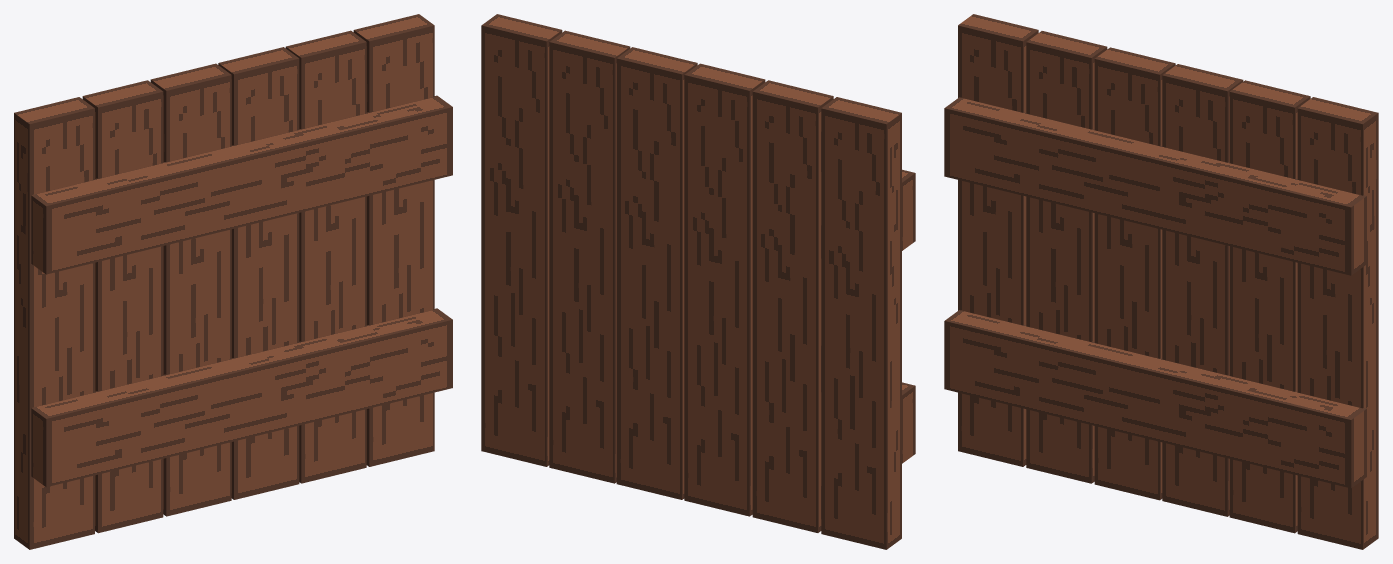
Rendered from Fence.fbx.
The picture shows the model from 3 angles, left to right: view 1: azimuth 30°, elevation 25°; view 2: azimuth 150°, elevation 25°; view 3: azimuth 330°, elevation 25°; orthographic projection.
Parts seen in each view (by area): view 1: Box005, Box008, Box001, Box010, Box009, Box013, Box011, Box012; view 2: Box001, Box009, Box010, Box013, Box011, Box012, Box008, Box005; view 3: Box008, Box005, Box013, Box001, Box009, Box012, Box010, Box011.
Boxes of the visible parts, x1,y1,x2,y2 form: Box005: (31,308,452,487); Box008: (31,95,452,274); Box001: (14,97,94,549); Box010: (150,63,231,516); Box009: (82,80,163,533); Box013: (353,14,434,466); Box011: (218,47,299,499); Box012: (285,30,366,483); Box001: (821,97,901,549); Box009: (752,80,833,532); Box010: (684,63,765,516); Box013: (481,14,562,466); Box011: (616,47,697,499); Box012: (549,30,630,483); Box008: (902,169,915,250); Box005: (902,382,915,463); Box008: (944,97,1366,275); Box005: (944,310,1366,488); Box013: (1297,97,1378,549); Box001: (958,14,1038,466); Box009: (1026,31,1107,483); Box012: (1229,80,1310,533); Box010: (1094,47,1175,500); Box011: (1162,64,1243,516).
Bounding box in the file's own units: 60.23 × 60 × 7.81.
